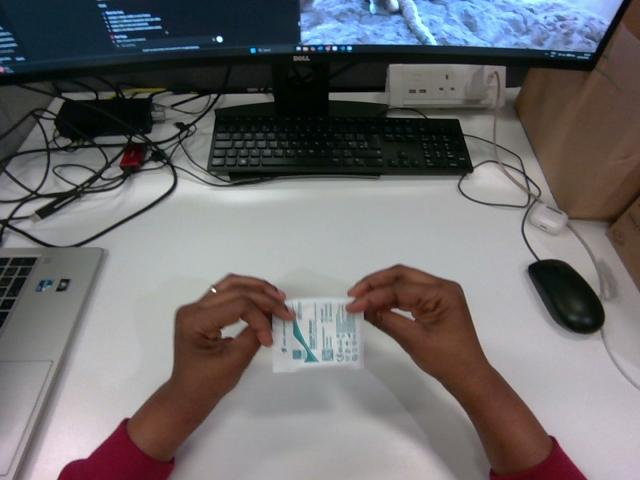gauze: (272, 298, 363, 371)
